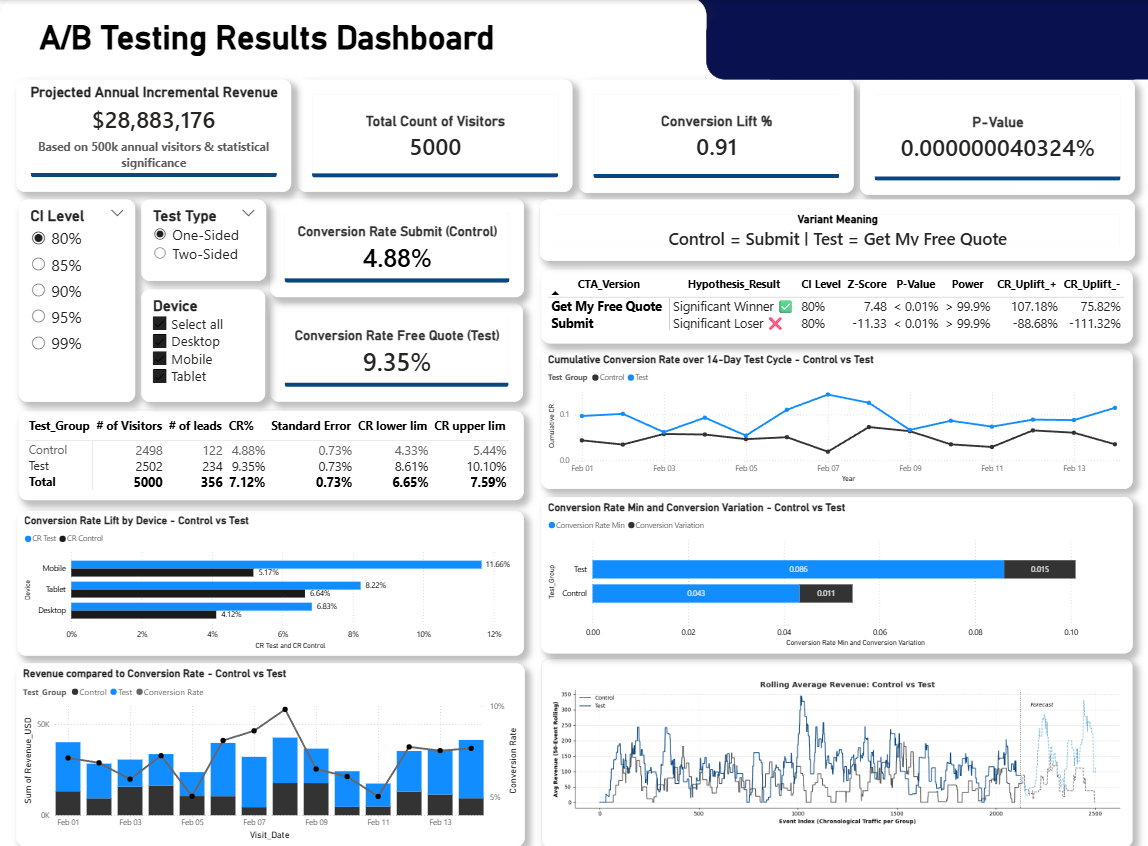

This screenshot's page, from the dashboard's own definition file:
{"tool":"powerbi","page":{"name":"Page 1","canvas":[1840,1370],"ordinal":0},"visuals":[{"type":"shape","box":[890,0,950,66.7],"z":0},{"type":"shape","box":[0,110,1840,1260],"z":1000},{"type":"shape","box":[0,0,1130,131.7],"z":1250},{"type":"shape","box":[0,93.3,1840,1045],"z":1500},{"type":"cardVisual","title":"Version B: Free Quote (Test)","fields":{"Data":["Measure.CR Test"]},"box":[431.9,489.2,405,157.5],"z":2000},{"type":"cardVisual","title":"Version B: Free Quote (Test)","fields":{"Data":["Measure.CR Control"]},"box":[432,322,406,158],"z":3000},{"type":"clusteredBarChart","title":"Conversion Rate Lift by Device - Control vs Test","fields":{"Category":["Advanced_AB_Test_Data.Device"],"Y":["Measure.CR Test","Measure.CR Control"]},"box":[28.9,821.2,810,232],"z":4000},{"type":"lineStackedColumnComboChart","title":"Revenue compared to Conversion Rate - Control vs Test","fields":{"Category":["Realistic_Advanced_AB_Test_Data.Visit_Date"],"Y":["Sum(Advanced_AB_Test_Data.Revenue_USD)"],"Series":["Advanced_AB_Test_Data.Test_Group"],"Y2":["Measure.Conversion Rate"]},"box":[25.3,1066.2,813.3,293.3],"z":5000},{"type":"lineChart","title":"Cumulative Conversion Rate over 14-Day Test Cycle - Control vs Test","fields":{"Y":["Measure.Cumulative CR"],"Series":["Advanced_AB_Test_Data.Test_Group"],"Category":["Advanced_AB_Test_Data.Visit_Date.Variation.Date Hierarchy.Year","Advanced_AB_Test_Data.Visit_Date.Variation.Date Hierarchy.Quarter","Advanced_AB_Test_Data.Visit_Date.Variation.Date Hierarchy.Month","Advanced_AB_Test_Data.Visit_Date.Variation.Date Hierarchy.Day"]},"box":[866.9,564.2,946.7,223.3],"z":6000},{"type":"pythonVisual","fields":{"Values":["Realistic_Advanced_AB_Test_Data.Timestamp","Sum(Realistic_Advanced_AB_Test_Data.Revenue_USD)","Realistic_Advanced_AB_Test_Data.Visit_Date","Realistic_Advanced_AB_Test_Data.Test_Group"]},"box":[866.9,1057.5,946.7,303.3],"z":7000},{"type":"cardVisual","title":"Version B: Free Quote (Test)","fields":{"Data":["Measure.Conversion Lift %"]},"box":[926.7,131.7,440,181.7],"z":8000},{"type":"cardVisual","title":"Version B: Free Quote (Test)","fields":{"Data":["CountNonNull(Advanced_AB_Test_Data.Visitor_ID)"]},"box":[476.7,131.7,440,180],"z":9000},{"type":"cardVisual","title":"Projected Annual Incremental Revenue","fields":{"Data":["Measure.Projected Annual Incremental Revenue"]},"box":[26.7,131.7,440,180],"z":10000},{"type":"pivotTable","fields":{"Rows":["Advanced_AB_Test_Data.CTA_Version"],"Values":["Measure.Hypothesis_Result","Min(CI_Parameter.CI Level)","Measure.Z-Score","Measure.P_Value_Display","Measure.Power_Display","Measure.CR_Uplift_Plus","Measure.CR_Uplift_Minus"]},"box":[866.9,435.9,946.7,118.3],"z":11000},{"type":"pivotTable","fields":{"Values":["Measure.# of Visitors","Measure.# of leads","Measure.CR%","Measure.Standard Error","Measure.CR lower lim","Measure.CR upper lim"],"Rows":["Advanced_AB_Test_Data.Test_Group"]},"box":[30.3,662.5,808.3,143.3],"z":12000},{"type":"barChart","title":"Conversion Rate Min and Conversion Variation - Control vs Test","fields":{"Category":["Advanced_AB_Test_Data.Test_Group"],"Y":["Measure.Conversion Rate Min","Measure.Conversion Variation"]},"box":[866.9,799.2,946.7,250],"z":13000},{"type":"slicer","fields":{"Values":["CI_Parameter.CI Level"]},"box":[30,324,186,324],"z":14000},{"type":"cardVisual","title":"Version B: Free Quote (Test)","fields":{"Data":["Measure.P_Value"]},"box":[1376.7,131.7,440,185],"z":15000},{"type":"cardVisual","fields":{"Data":["Measure.Variant_Names_Combined"]},"box":[863.6,324.2,951.7,98.3],"z":16000},{"type":"slicer","fields":{"Values":["Hypothesis_Type.Test Type"]},"box":[226,324,200,130],"z":17000},{"type":"slicer","fields":{"Values":["Advanced_AB_Test_Data.Device"]},"box":[226.9,467.5,198.3,180],"z":19000},{"type":"textbox","box":[58.6,28.6,832.9,74.3],"z":20000},{"type":"shape","box":[1130,8,710,104],"z":21000},{"type":"shape","box":[1232,72,608,40],"z":22000}]}

Visuals, with their boxes in screenshot pixels (x1, y1, x2, y2), scaled from the page's 1840x1370 canvas onto the 1148x846 screenshot:
shape: bbox=[555, 0, 1147, 41]
shape: bbox=[0, 68, 1147, 845]
shape: bbox=[0, 0, 705, 81]
shape: bbox=[0, 58, 1147, 703]
"Version B: Free Quote (Test)" cardVisual: bbox=[269, 302, 522, 399]
"Version B: Free Quote (Test)" cardVisual: bbox=[270, 199, 523, 296]
"Conversion Rate Lift by Device - Control vs Test" clusteredBarChart: bbox=[18, 507, 523, 650]
"Revenue compared to Conversion Rate - Control vs Test" lineStackedColumnComboChart: bbox=[16, 658, 523, 840]
"Cumulative Conversion Rate over 14-Day Test Cycle - Control vs Test" lineChart: bbox=[541, 348, 1132, 486]
pythonVisual - Realistic_Advanced_AB_Test_Data.Timestamp x Sum(Realistic_Advanced_AB_Test_Data.Revenue_USD): bbox=[541, 653, 1132, 840]
"Version B: Free Quote (Test)" cardVisual: bbox=[578, 81, 853, 194]
"Version B: Free Quote (Test)" cardVisual: bbox=[297, 81, 572, 192]
"Projected Annual Incremental Revenue" cardVisual: bbox=[17, 81, 291, 192]
pivotTable - Advanced_AB_Test_Data.CTA_Version x Measure.Hypothesis_Result: bbox=[541, 269, 1132, 342]
pivotTable - Measure.# of Visitors x Measure.# of leads: bbox=[19, 409, 523, 498]
"Conversion Rate Min and Conversion Variation - Control vs Test" barChart: bbox=[541, 494, 1132, 648]
slicer - CI_Parameter.CI Level: bbox=[19, 200, 135, 400]
"Version B: Free Quote (Test)" cardVisual: bbox=[859, 81, 1133, 196]
cardVisual - Measure.Variant_Names_Combined: bbox=[539, 200, 1133, 261]
slicer - Hypothesis_Type.Test Type: bbox=[141, 200, 266, 280]
slicer - Advanced_AB_Test_Data.Device: bbox=[142, 289, 265, 400]
textbox: bbox=[37, 18, 556, 64]
shape: bbox=[705, 5, 1147, 69]
shape: bbox=[769, 44, 1147, 69]
